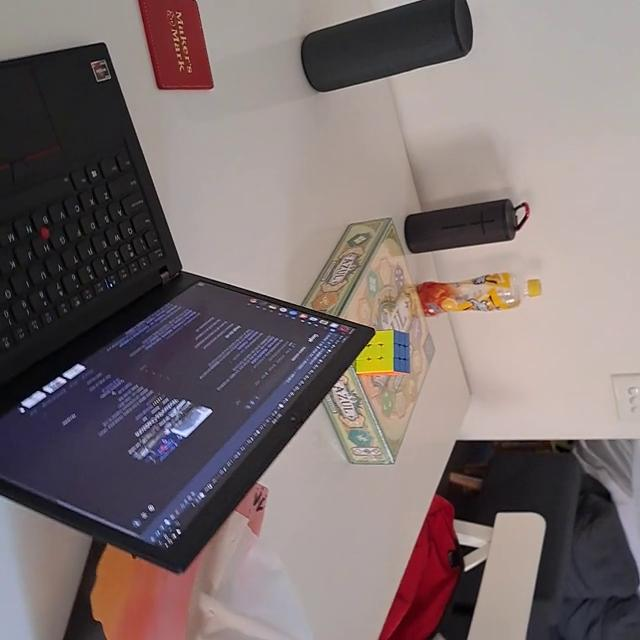rubix_cube: (349, 326, 414, 381)
